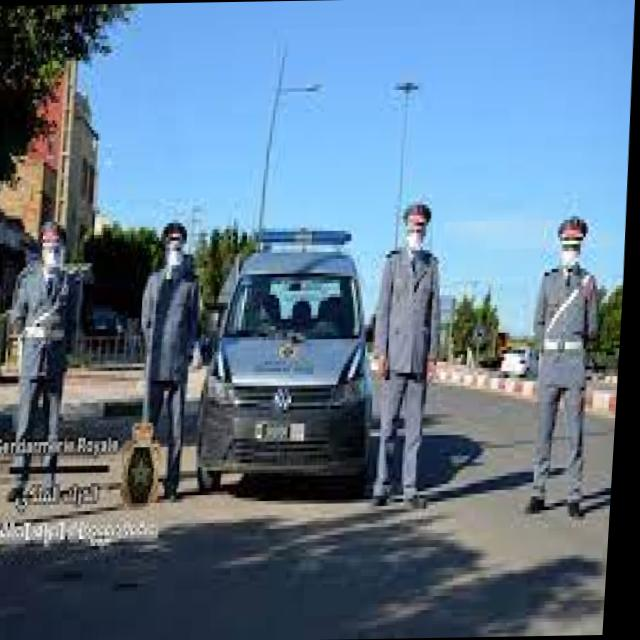gendarme car: (197, 218, 394, 498)
